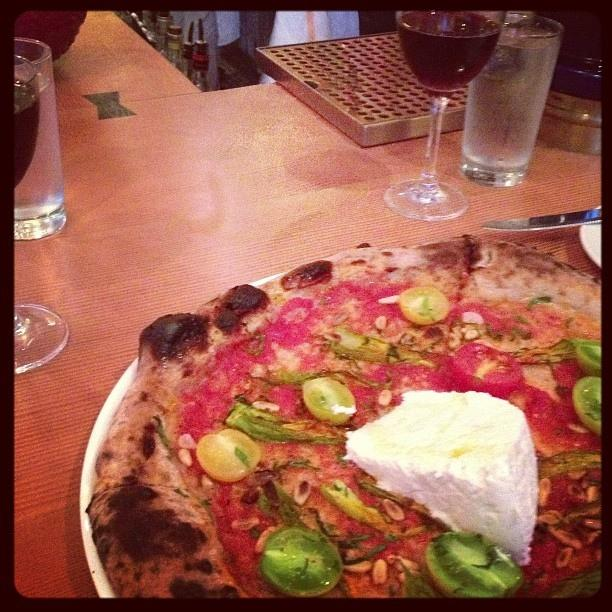tomato: (424, 531, 524, 598), (260, 526, 343, 598), (450, 342, 524, 400), (196, 428, 261, 483), (302, 378, 356, 424), (398, 286, 449, 325), (572, 375, 601, 436), (570, 338, 601, 376)
